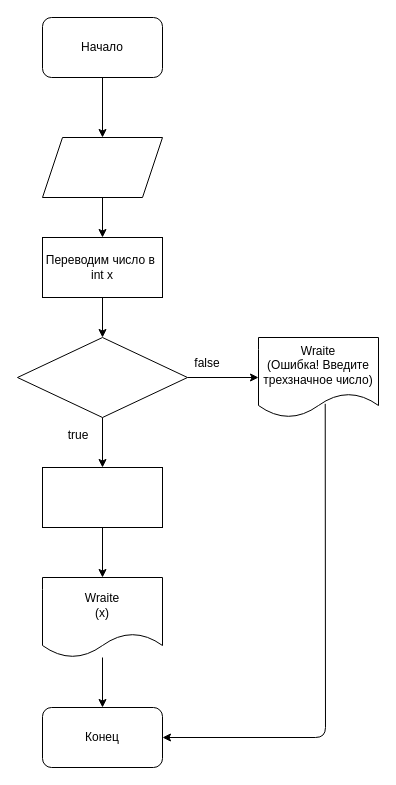
Some shapes in this 396 by 785 pixel diagram are drawn without their labels. The shapes that lost their labels are listed below. From the top down, each one's box as (x1, y1, x2, y2) in pixels, then its label:
(42, 136, 162, 198): Вводим число
(16, 336, 188, 418): x < 100 | x > 999
(42, 466, 162, 528): x - x / 100 x = x % 10
